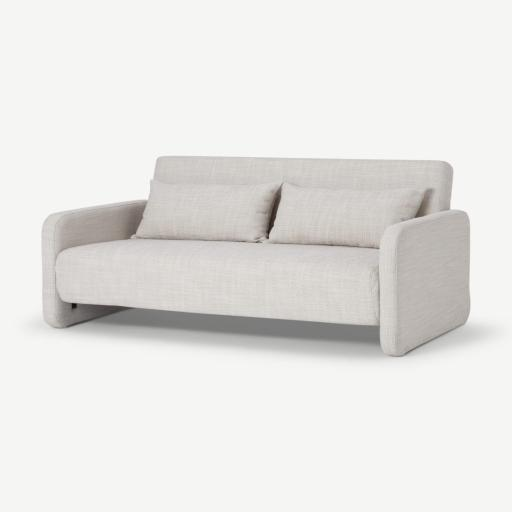back_cushion: (136, 180, 423, 248)
left_arm: (379, 210, 470, 356)
right_arm: (42, 202, 145, 327)
seat_cushion: (56, 239, 379, 325)
two-seater: (0, 0, 511, 512)
